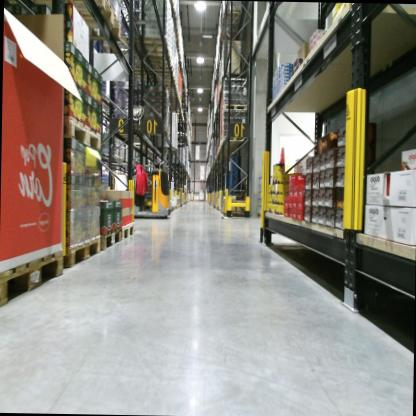pallet: (0, 246, 66, 307), (28, 0, 121, 40), (57, 111, 103, 149), (61, 232, 102, 271), (100, 223, 123, 253), (136, 34, 168, 54), (142, 122, 167, 136), (121, 220, 134, 243), (219, 9, 241, 21)
pallet_truck: (123, 156, 181, 227)
